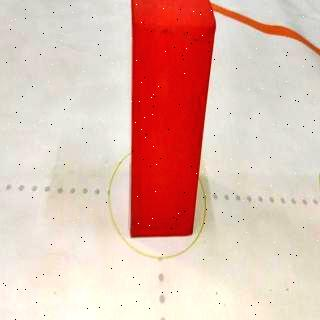redbox: (128, 0, 218, 238)
